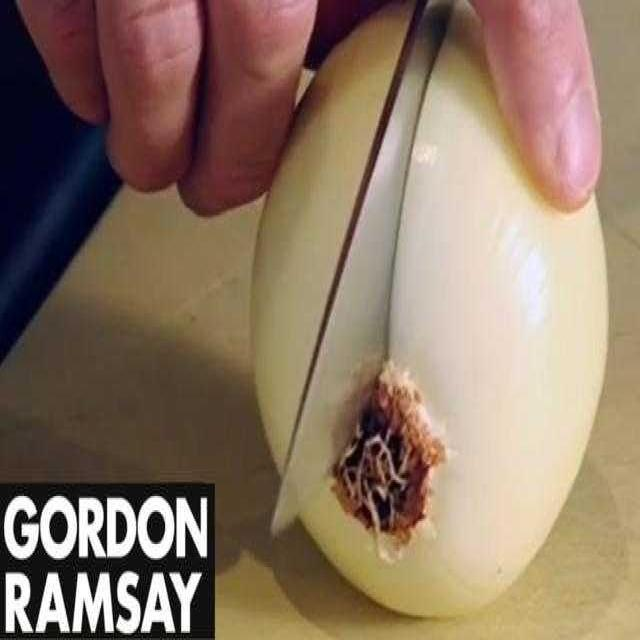onion: (248, 2, 612, 620)
